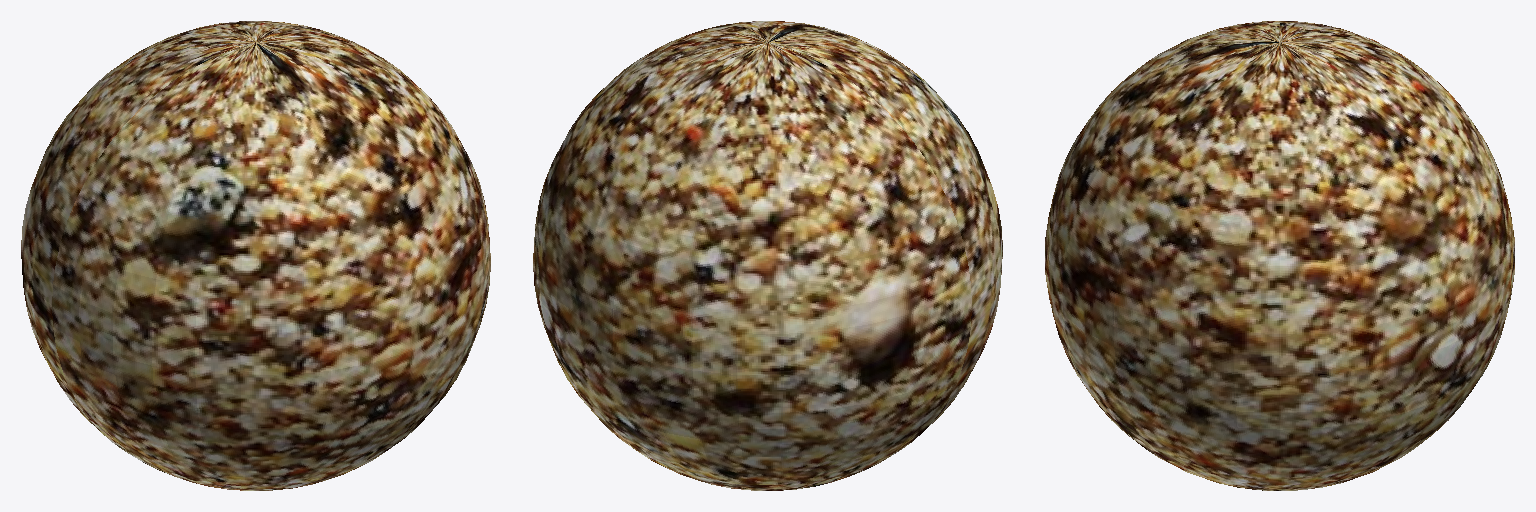
The picture shows the model from 3 angles: view 1: azimuth 30°, elevation 25°; view 2: azimuth 150°, elevation 25°; view 3: azimuth 270°, elevation 25°; orthographic projection.
Visible parts, largest first — view 1: Sphere_Sphere.001; view 2: Sphere_Sphere.001; view 3: Sphere_Sphere.001.
Boxes of the visible parts, x1,y1,x2,y2 form: Sphere_Sphere.001: [21, 21, 490, 490]; Sphere_Sphere.001: [533, 21, 1002, 490]; Sphere_Sphere.001: [1045, 21, 1514, 490].
Bounding box in the file's own units: 2 × 2 × 2.
Materials: 1 (1 with a texture image).